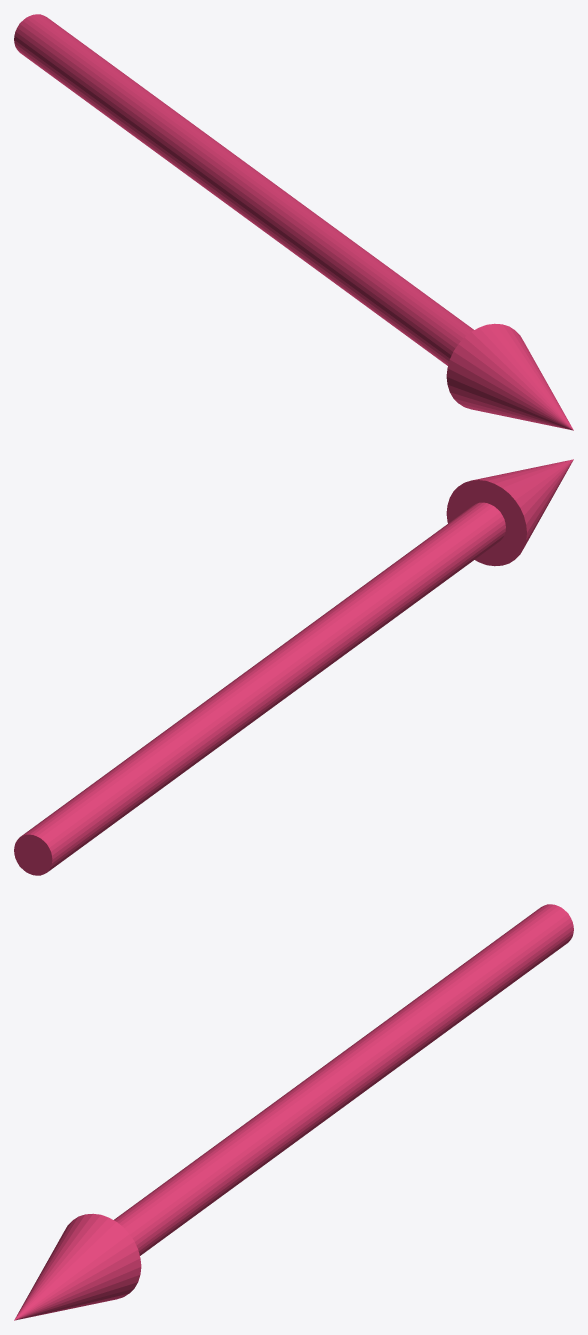
The model's file is Axis 0_BH3.gltf.
The picture shows the model from 3 angles, top to bottom: view 1: azimuth 30°, elevation 25°; view 2: azimuth 150°, elevation 25°; view 3: azimuth 330°, elevation 25°; orthographic projection.
Visible parts, largest first — view 1: Eje_Cono.016; view 2: Eje_Cono.016; view 3: Eje_Cono.016.
Part boxes in pixels (x1=…): Eje_Cono.016: x1=14, y1=14, x2=573, y2=430; Eje_Cono.016: x1=14, y1=459, x2=573, y2=875; Eje_Cono.016: x1=14, y1=904, x2=573, y2=1320.
Size of the model in its own units: 0.1509 by 0.1509 by 1.76.
